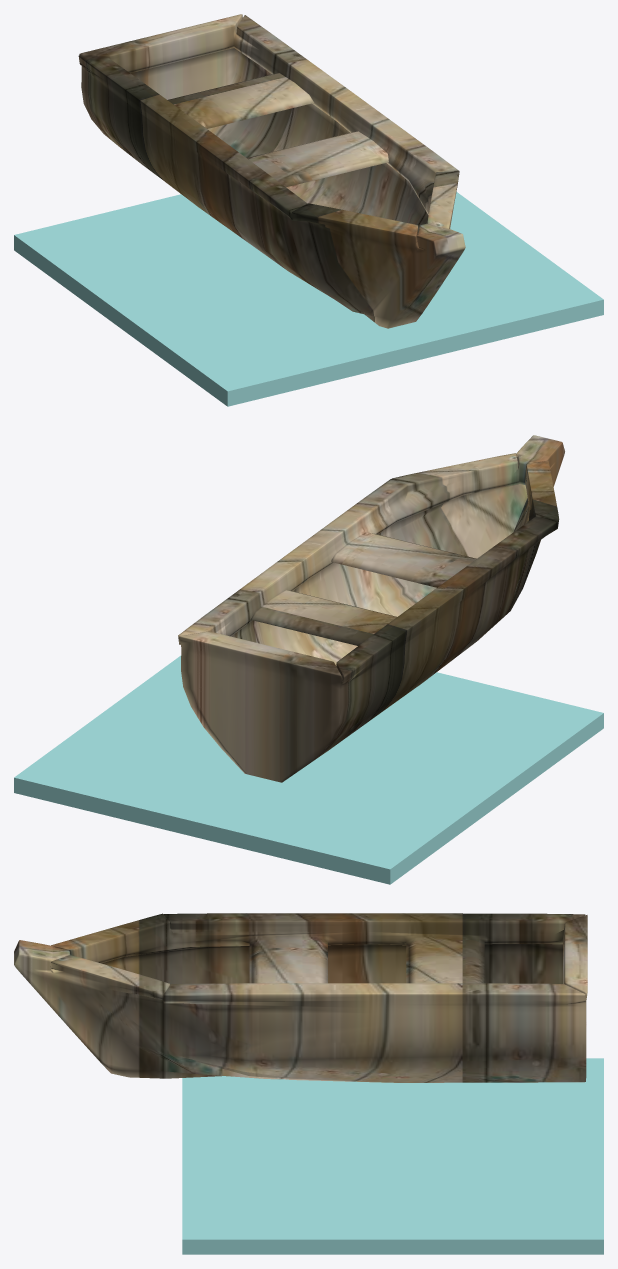
The model's file is bote.DAE.
3 renders of one model, top to bottom at view 1: azimuth 30°, elevation 25°; view 2: azimuth 150°, elevation 25°; view 3: azimuth 270°, elevation 25°, orthographic.
Parts seen in each view (by area): view 1: Box01, Box002; view 2: Box01, Box002; view 3: Box01, Box002.
Boxes of the visible parts, x1,y1,x2,y2 form: Box01: (78, 14, 465, 328); Box002: (14, 192, 603, 406); Box01: (178, 435, 564, 782); Box002: (14, 655, 603, 884); Box01: (14, 913, 587, 1082); Box002: (182, 1058, 603, 1254).
Size of the model in its own units: 138 by 189 by 68.42.
Materials: 2 (1 with a texture image).
